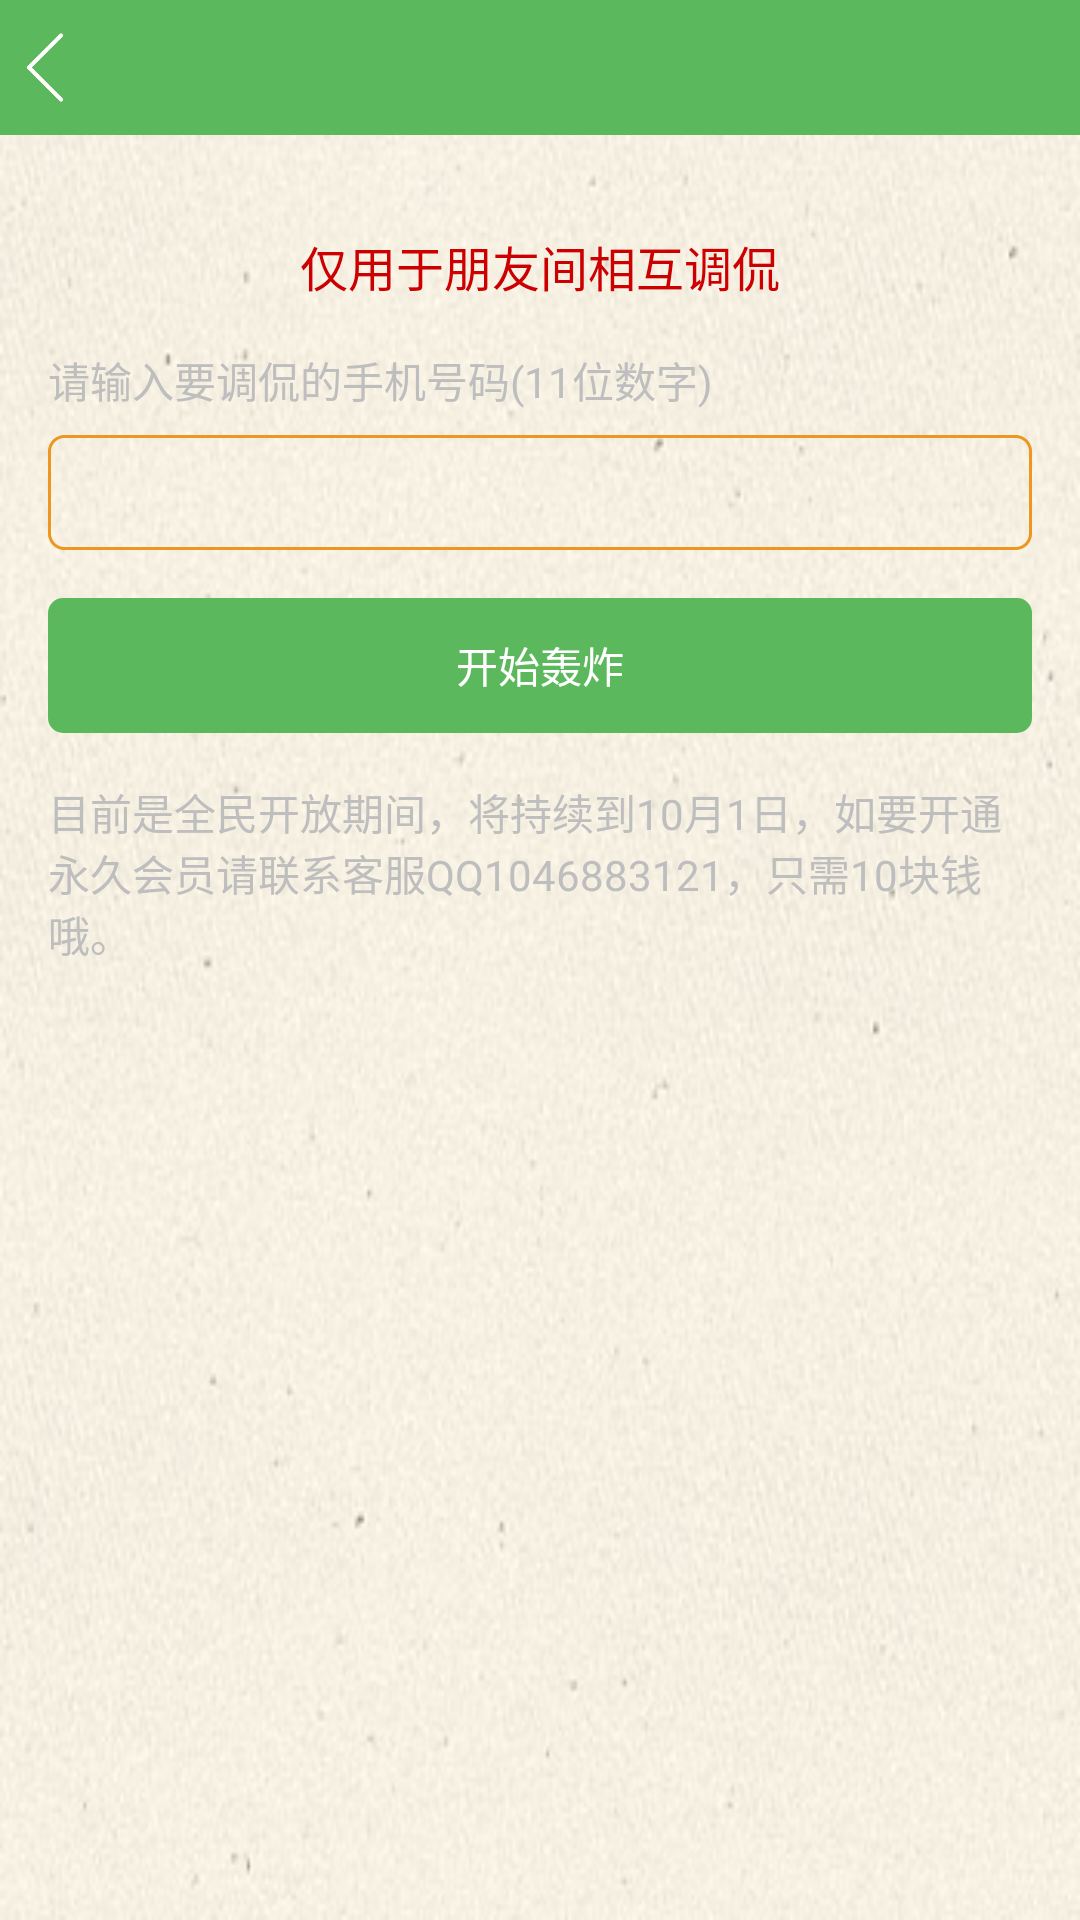

Icon bounding boxes for this 1080 × 1920 phone screenshot, format (x1, y1, x2, y2):
back: (27, 33, 63, 102)
